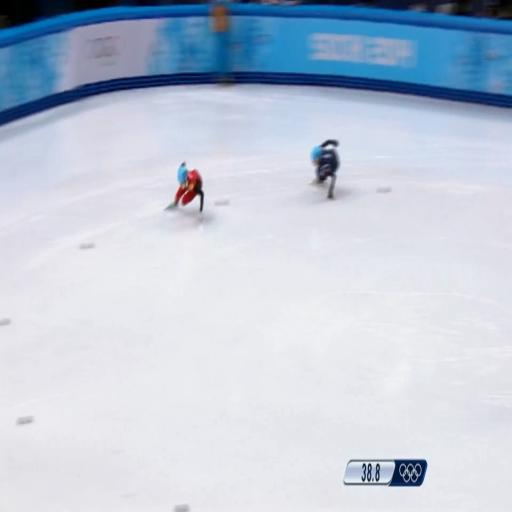Skater: (166, 163, 204, 216), (311, 140, 339, 198)
